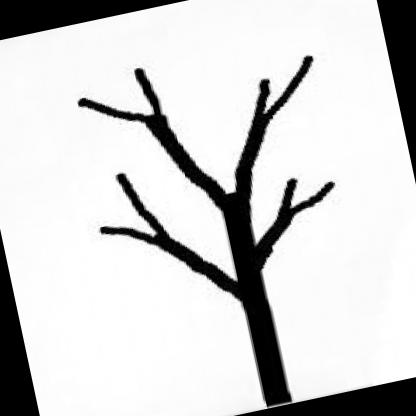branch_cut: (61, 25, 358, 323)
trunk_straight: (228, 298, 298, 386)
